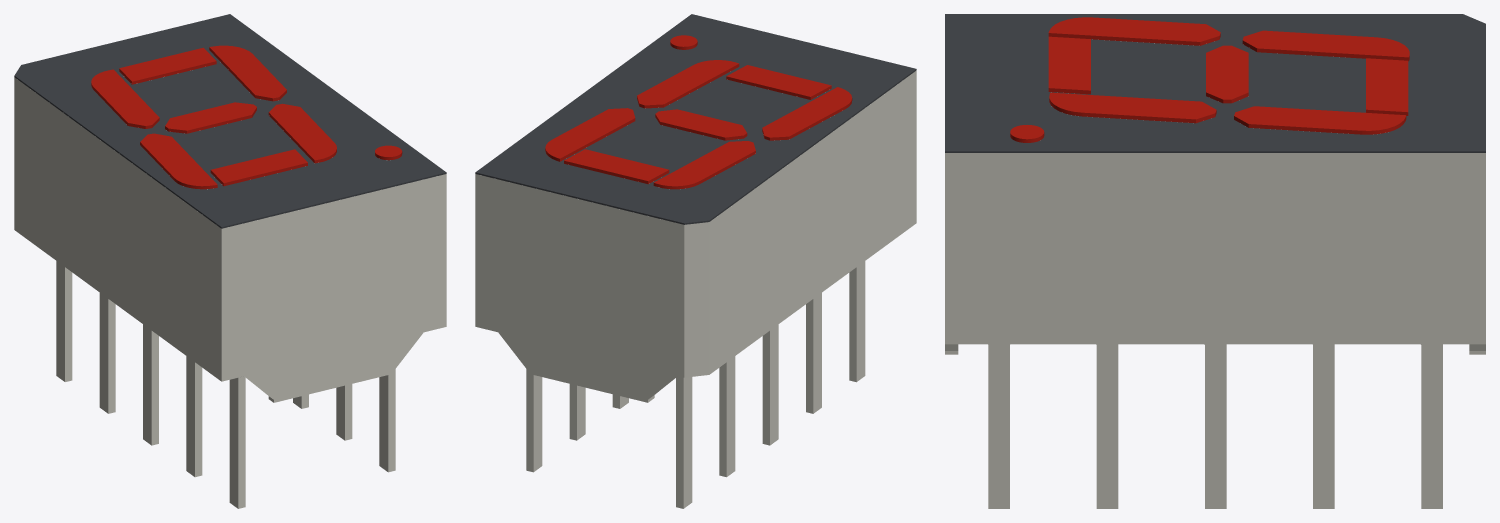
Rendered from kc-hdsp-a151.glb.
The picture shows the model from 3 angles, left to right: view 1: azimuth 30°, elevation 25°; view 2: azimuth 150°, elevation 25°; view 3: azimuth 270°, elevation 25°; orthographic projection. The views are drawn at different scales.
Visible parts, largest first — view 1: 0.6666666666666666_0.6666666666666666_0.5833333333333334_0.8, 0.08333333333333333_0.08333333333333333_0.08333333333333333_, 0.4166666666666667_0_0_0; view 2: 0.6666666666666666_0.6666666666666666_0.5833333333333334_0.8, 0.08333333333333333_0.08333333333333333_0.08333333333333333_, 0.4166666666666667_0_0_0; view 3: 0.6666666666666666_0.6666666666666666_0.5833333333333334_0.8, 0.08333333333333333_0.08333333333333333_0.08333333333333333_, 0.4166666666666667_0_0_0.
Part boxes in pixels (<box>): 0.6666666666666666_0.6666666666666666_0.5833333333333334_0.8: <box>14,77,446,508</box>; 0.08333333333333333_0.08333333333333333_0.08333333333333333_: <box>14,14,446,228</box>; 0.4166666666666667_0_0_0: <box>91,45,402,189</box>; 0.6666666666666666_0.6666666666666666_0.5833333333333334_0.8: <box>475,70,916,508</box>; 0.08333333333333333_0.08333333333333333_0.08333333333333333_: <box>475,14,916,224</box>; 0.4166666666666667_0_0_0: <box>545,35,852,189</box>; 0.6666666666666666_0.6666666666666666_0.5833333333333334_0.8: <box>945,153,1485,508</box>; 0.08333333333333333_0.08333333333333333_0.08333333333333333_: <box>945,14,1485,152</box>; 0.4166666666666667_0_0_0: <box>1010,17,1409,142</box>.
Bounding box in the file's own units: 0.7621 × 0.99 × 1.27.
